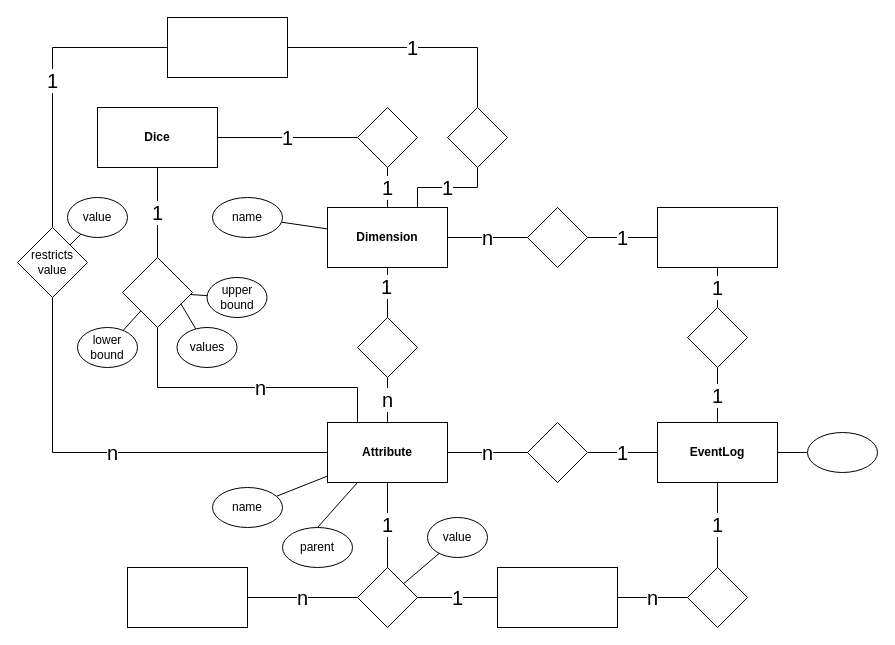
The diagram is 895 pixels wide and 645 high, and some of its shapes have lost their labels. Here are the shapes that lost their labels. From the top down, the centre of each, then its label:
At (227,47): "Slice".
At (717,237): "ProcessCube".
At (157,292): "restrics value".
At (842,452): "filename".
At (187,597): "Event".
At (557,597): "Trace".
